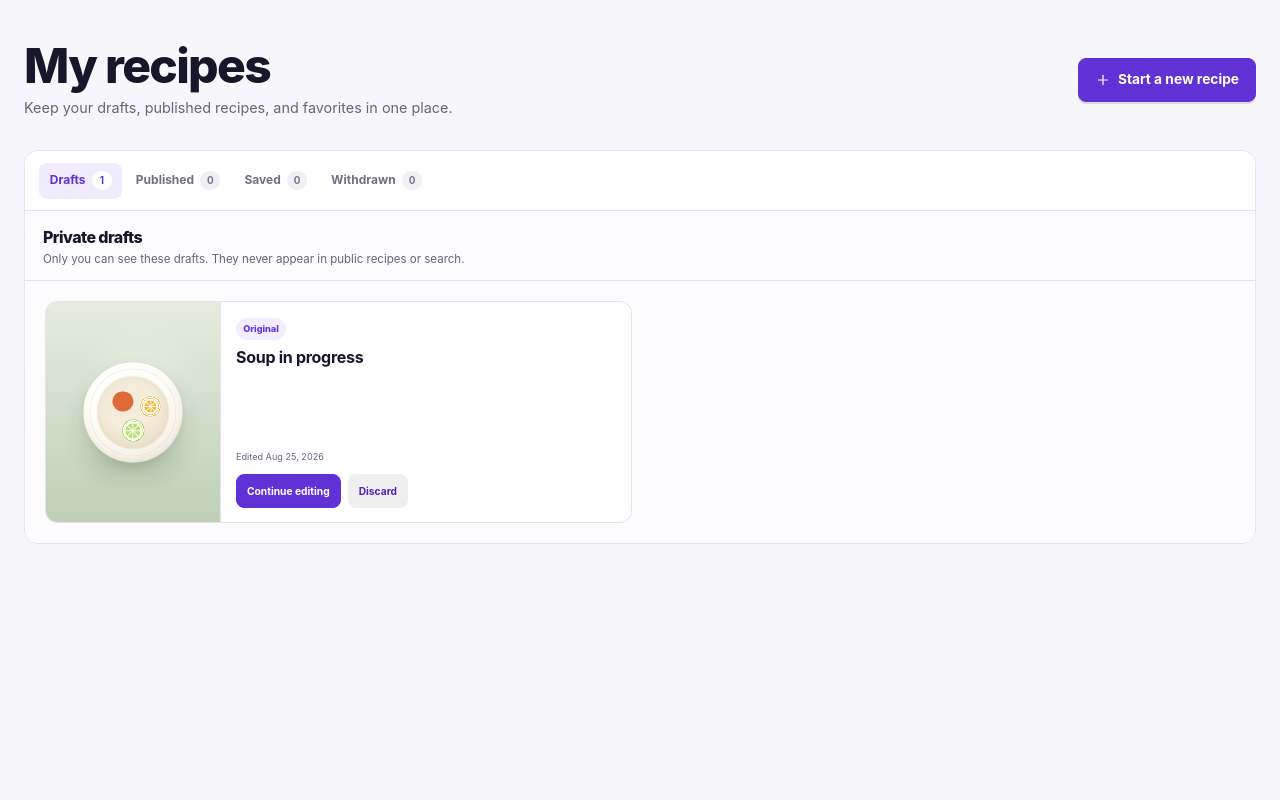
Scenario: cook profile and private recipe libraries › removes a discarded draft locally when revalidation fails
The image size is (1280, 800).
Click the button "Discard".
click(378, 492)  # box [348,474,408,508]
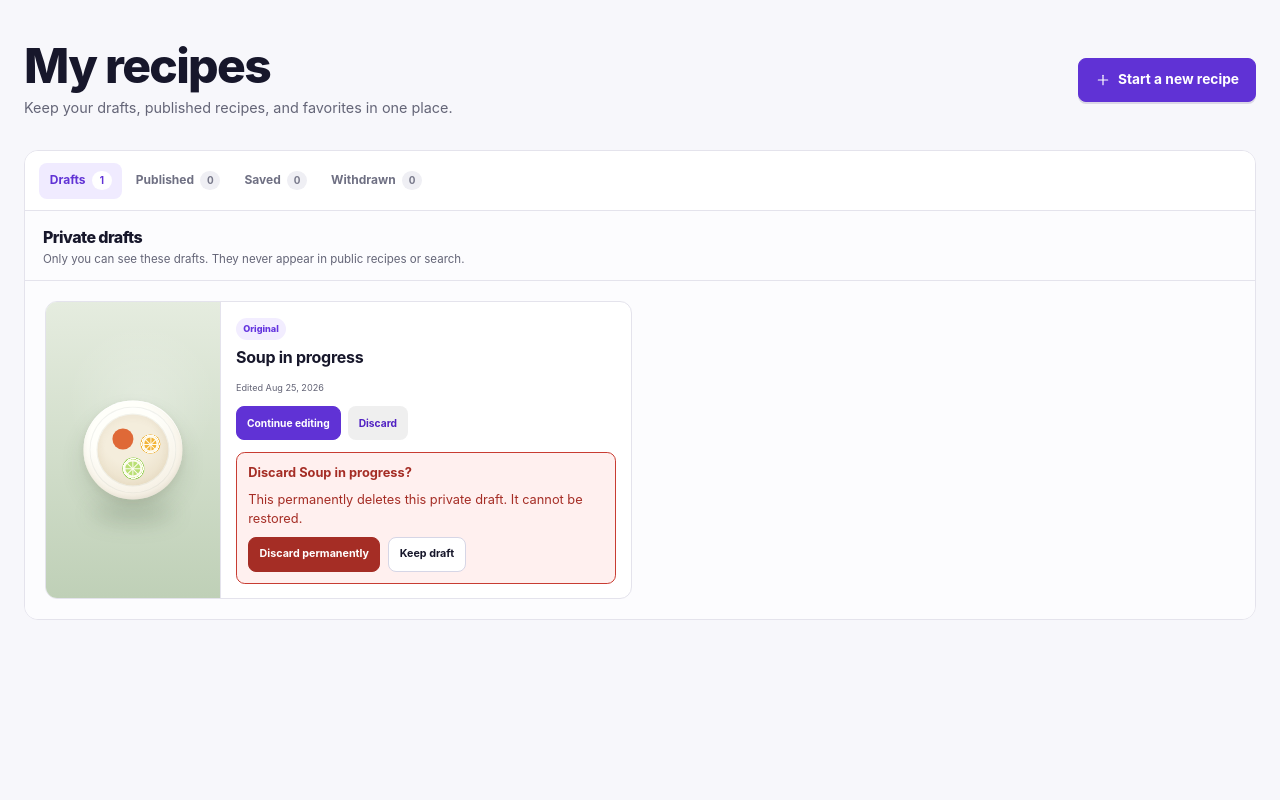
Click the button "Discard permanently".
click(314, 554)  # box [248,537,380,572]
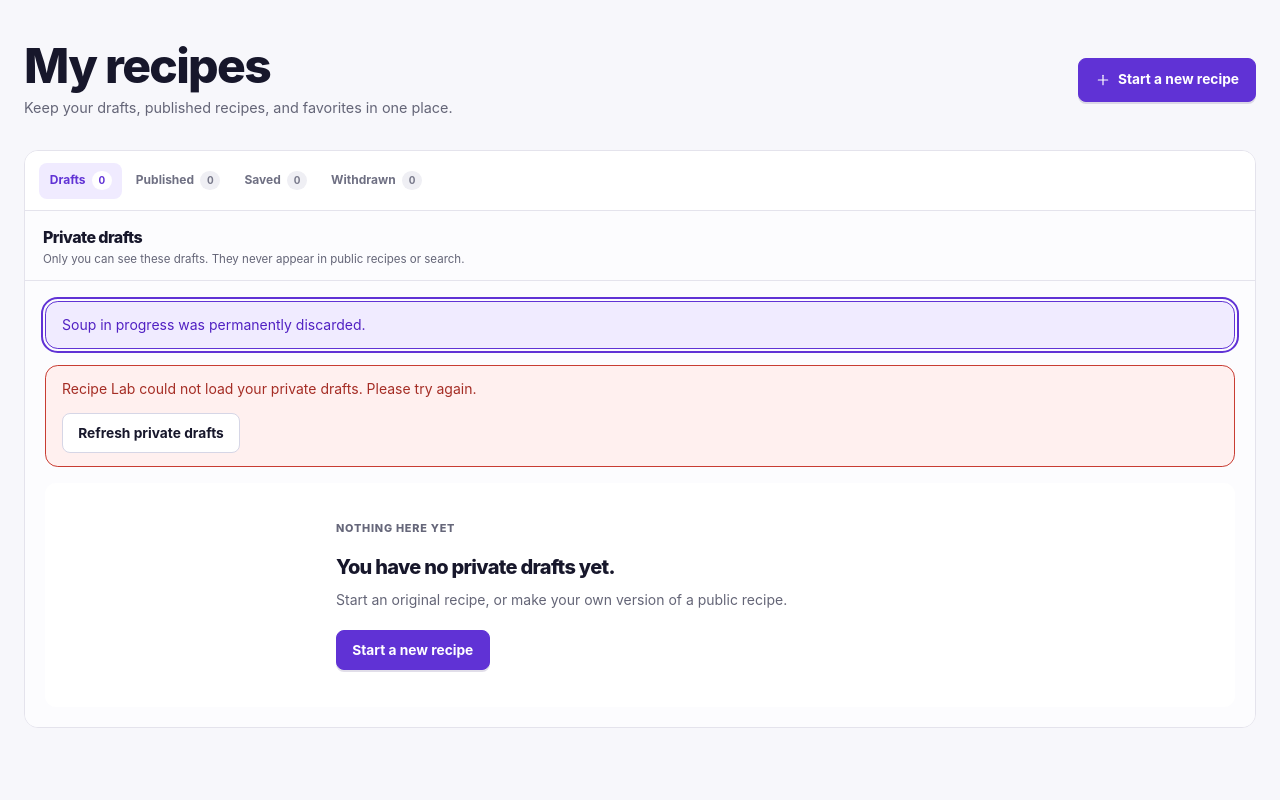
Expected: the 2nd message shows "Recipe Lab could not load your private drafts. Please try again.", [62,380,476,397]
Expected: the message "Soup in progress was permanently discarded." is shown, [45,302,1235,349]
Expected: the heading "You have no private drafts yet." is shown, [336,555,615,579]
